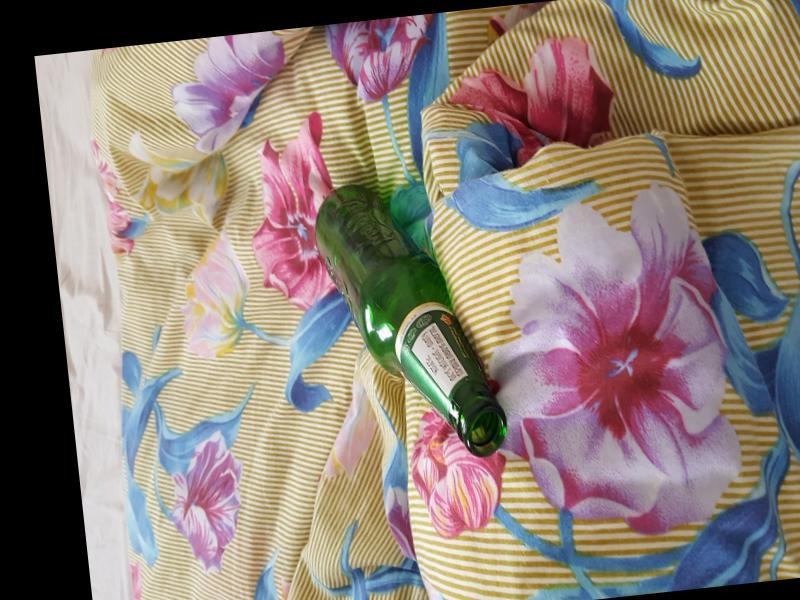Beer: (311, 174, 511, 470)
